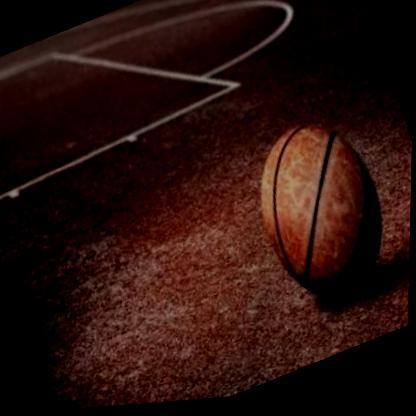basketball: (234, 102, 407, 333)
